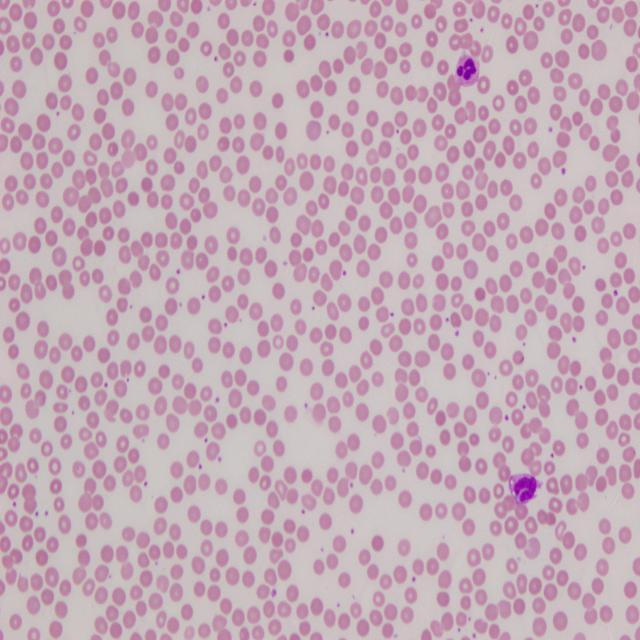cell: (455, 53, 479, 86)
